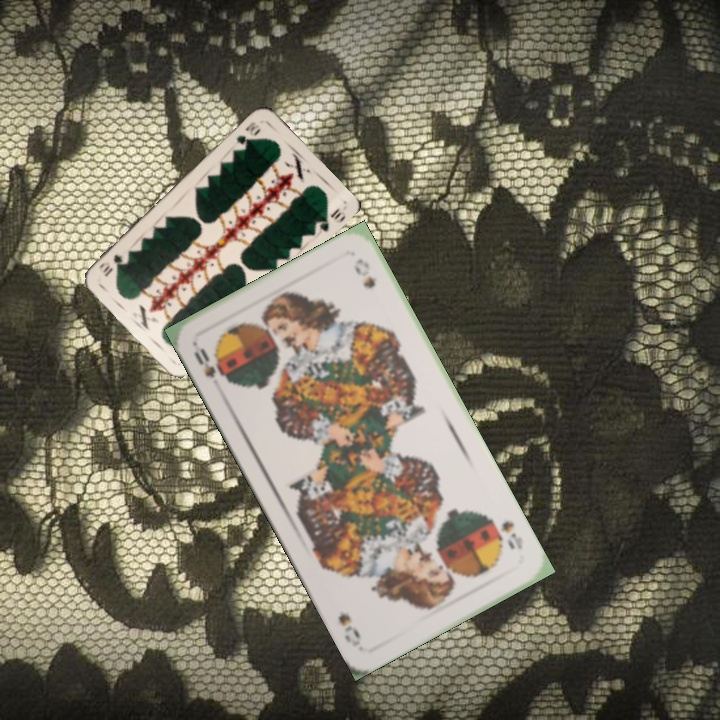G10: (232, 117, 263, 147)
SO: (189, 340, 232, 387), (487, 514, 526, 552)
